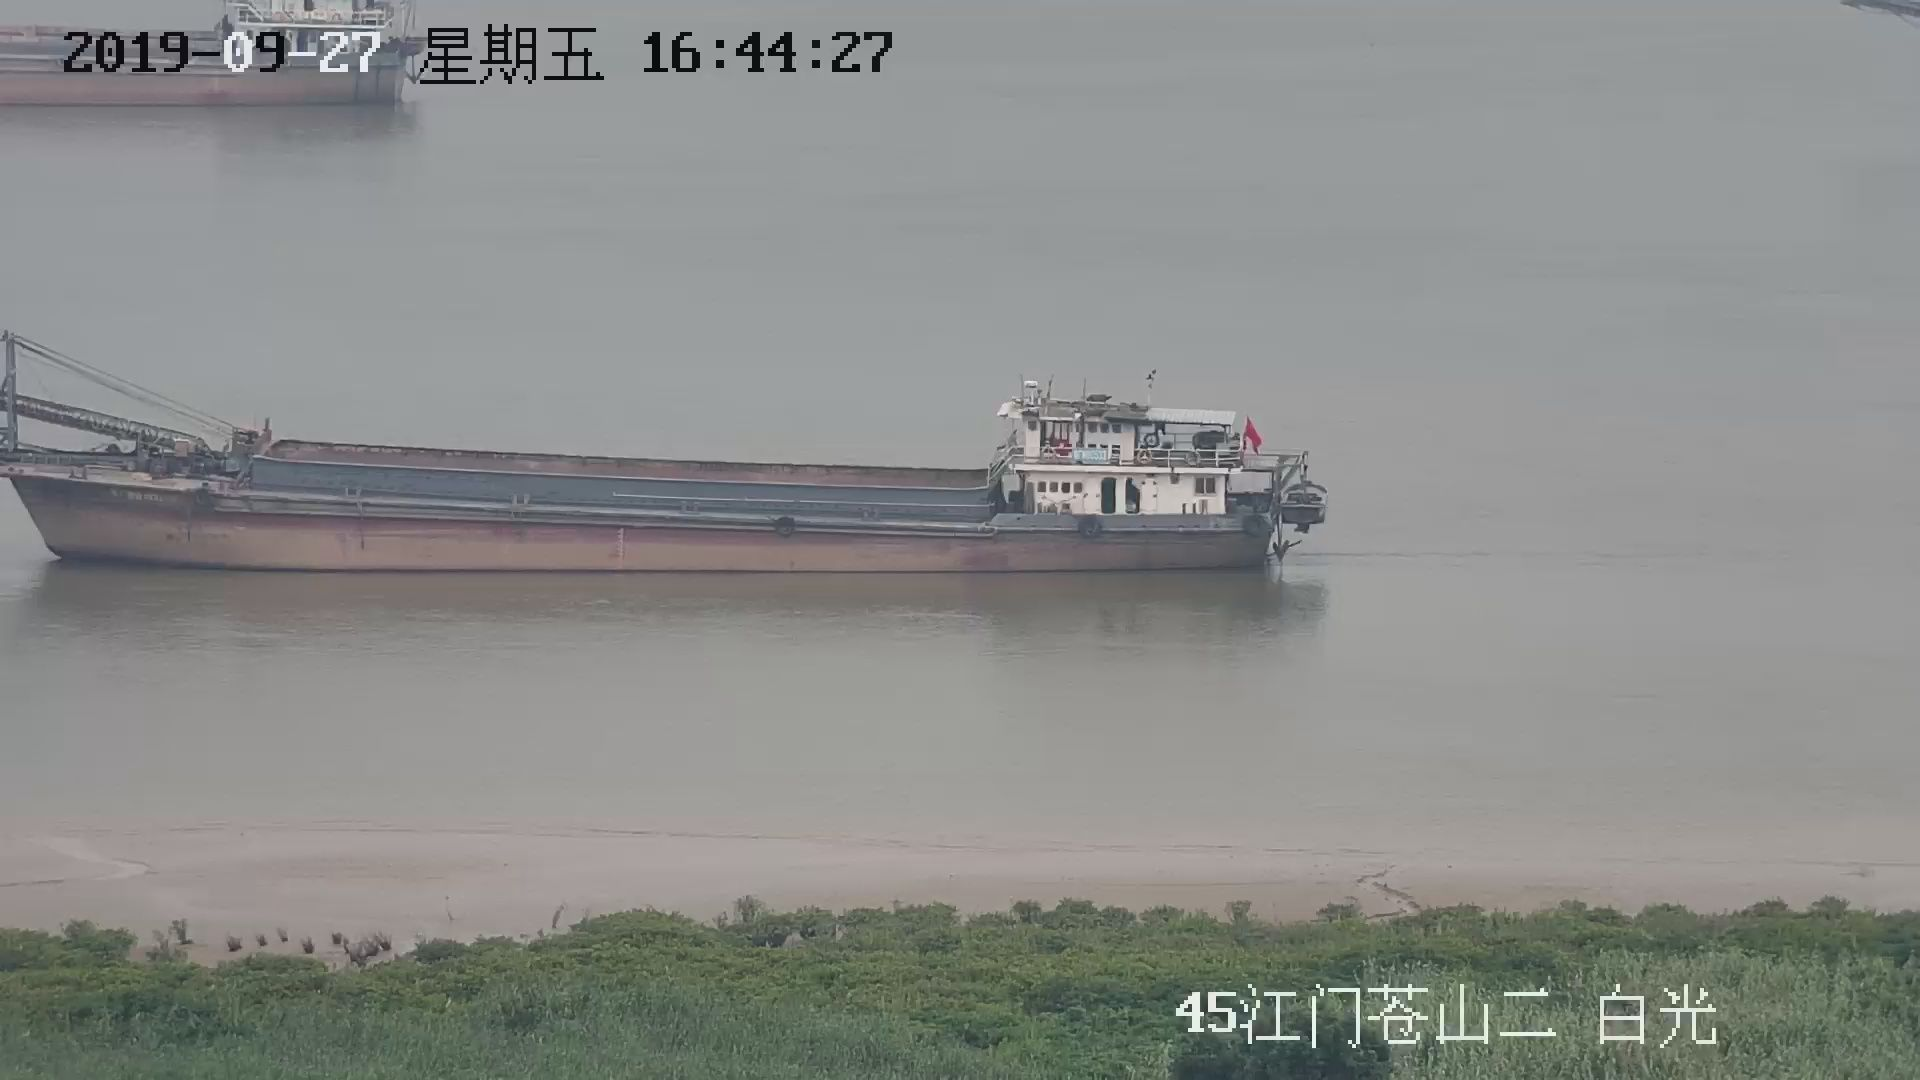ship: (7, 336, 1329, 582)
